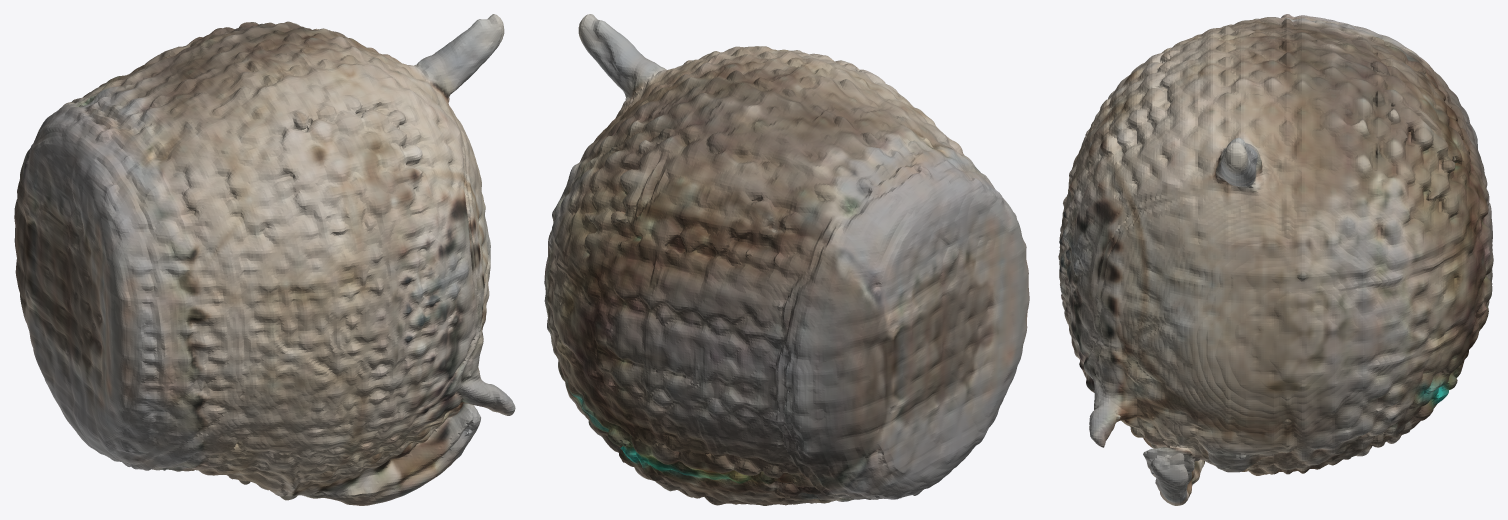
3 renders of one model, left to right at view 1: azimuth 30°, elevation 25°; view 2: azimuth 150°, elevation 25°; view 3: azimuth 270°, elevation 25°, orthographic. The views are drawn at different scales.
Parts seen in each view (by area): view 1: geometry_0; view 2: geometry_0; view 3: geometry_0.
Boxes of the visible parts, x1,y1,x2,y2 form: geometry_0: [14, 14, 515, 505]; geometry_0: [544, 14, 1029, 505]; geometry_0: [1058, 14, 1493, 505].
Size of the model in its own units: 0.8425 by 0.8455 by 0.7787.
